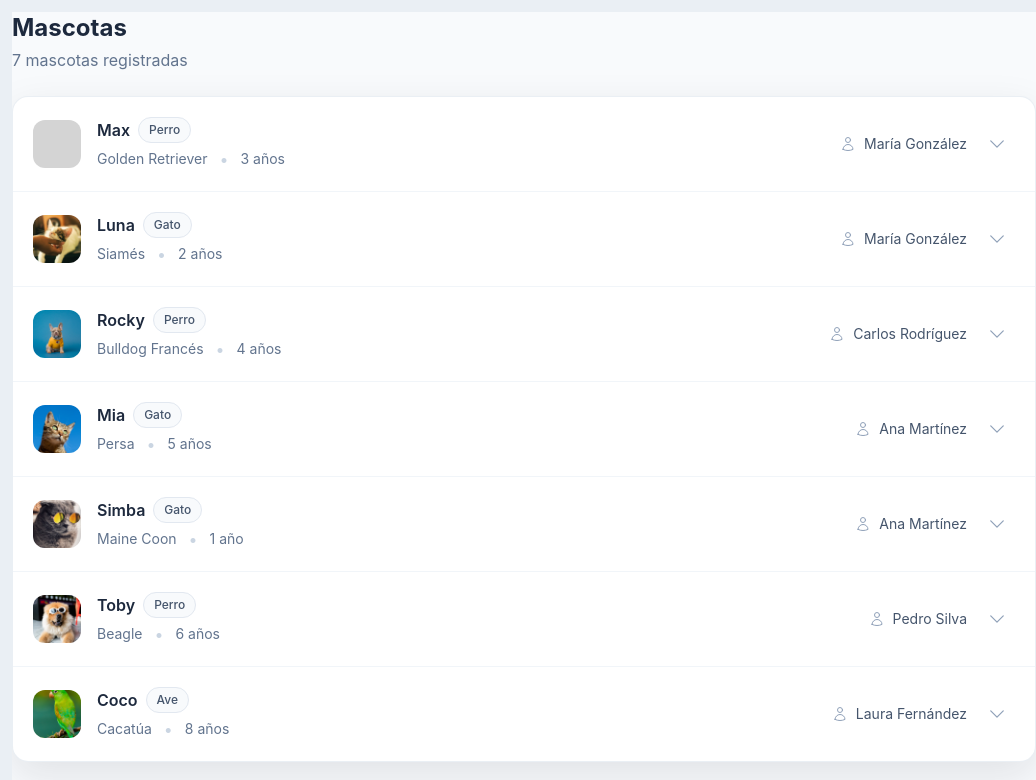
Test: PetsPage › Expandir mascota - Historial médico › expande una mascota al hacer click y muestra historial médico
Expected: the heading "Max" is shown, [97,118,130,142]
Note: Click en Max (tiene historial médico)
Click the text "Max" at point(57, 144), box [33,117,1015,169]
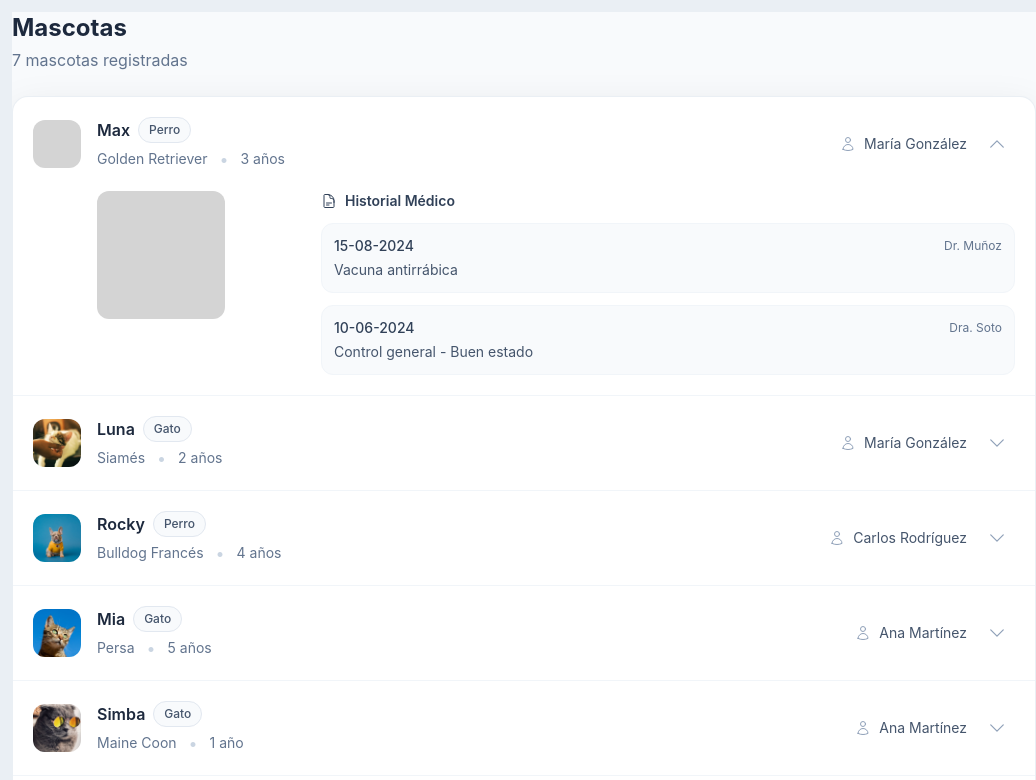
Result: the heading "Historial Médico" is shown at [321,192,455,209]
